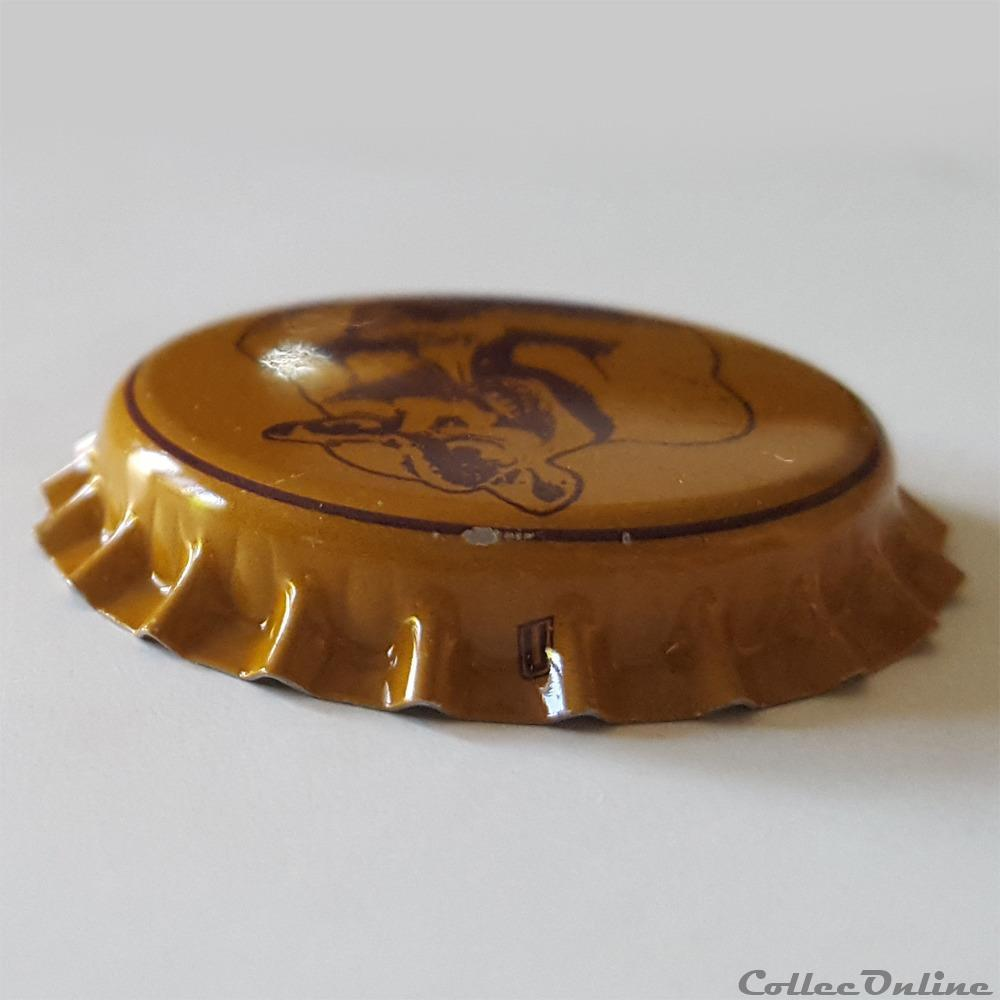metal: (37, 298, 963, 724)
